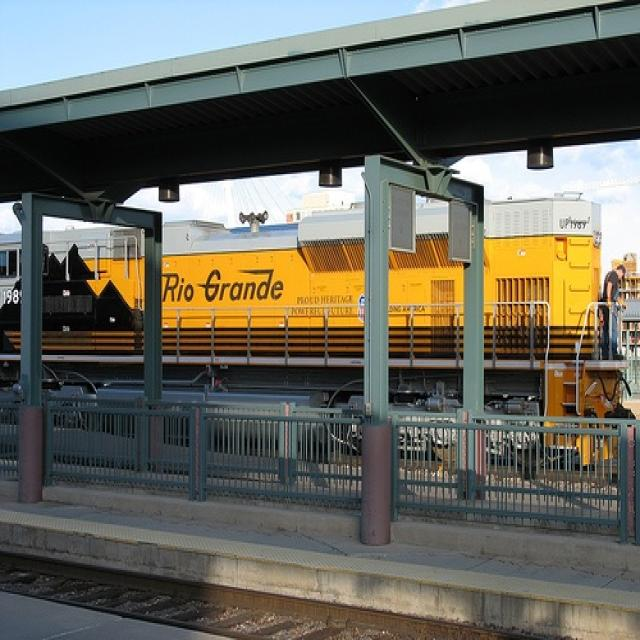train: (1, 193, 635, 469)
